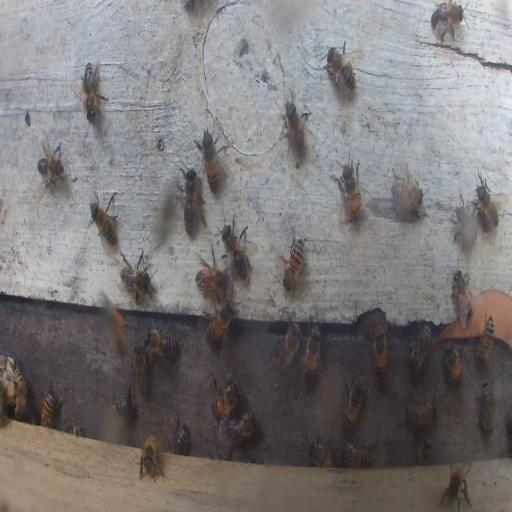bee: (219, 214, 251, 280), (175, 162, 204, 233), (336, 153, 364, 224), (118, 252, 155, 304), (76, 60, 107, 122), (324, 44, 357, 98), (196, 128, 222, 194), (281, 229, 306, 295), (440, 462, 473, 512), (35, 138, 64, 194), (390, 168, 423, 216), (101, 294, 127, 354), (89, 194, 118, 246), (283, 94, 307, 155), (430, 2, 466, 42), (475, 172, 500, 228), (194, 257, 226, 298), (453, 266, 474, 328), (206, 300, 234, 346), (407, 322, 431, 373), (342, 381, 366, 432), (138, 435, 164, 481), (212, 381, 240, 422), (404, 397, 438, 430), (302, 323, 321, 381), (146, 326, 177, 361), (280, 320, 301, 370), (455, 205, 477, 251), (132, 343, 150, 399), (478, 380, 495, 437), (228, 410, 256, 444), (110, 381, 135, 416), (166, 419, 190, 454), (12, 366, 28, 418), (445, 342, 463, 388), (477, 315, 494, 361), (341, 443, 372, 467), (40, 388, 58, 428), (373, 325, 386, 375), (308, 442, 333, 468), (416, 438, 432, 464), (67, 424, 83, 436)
